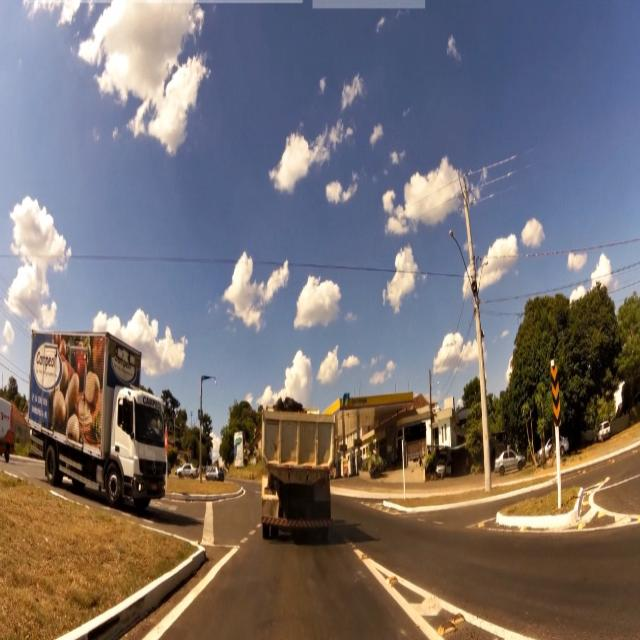MP: (549, 364, 563, 434)
